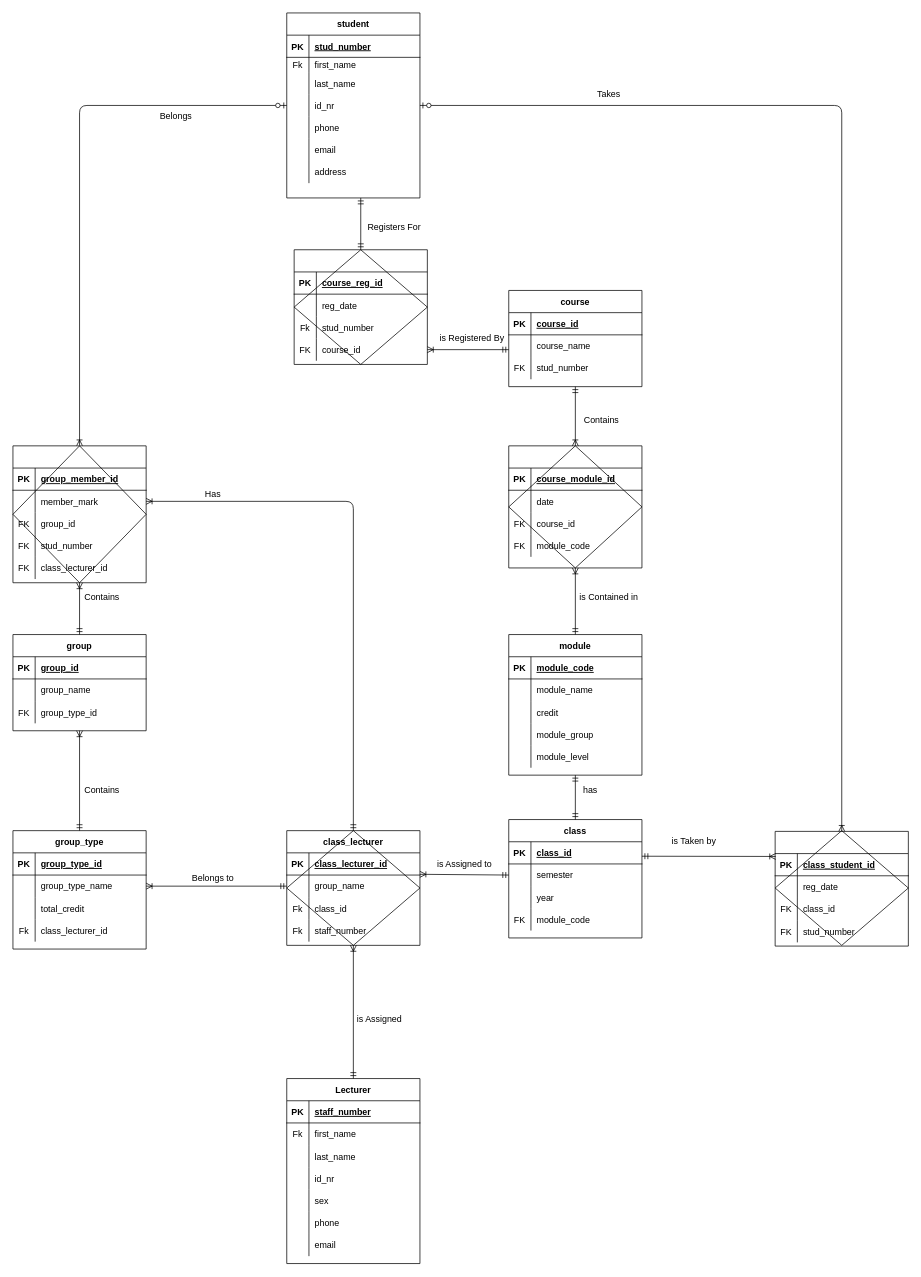
The diagram is 921 pixels wide and 1277 high, and some of its shapes have lost their labels. Each missing label, with the box of its shape:
class_student: (774, 831, 908, 946)
course_module: (508, 445, 642, 568)
group_member: (12, 445, 146, 583)
student_course_regsitration: (293, 249, 427, 364)
